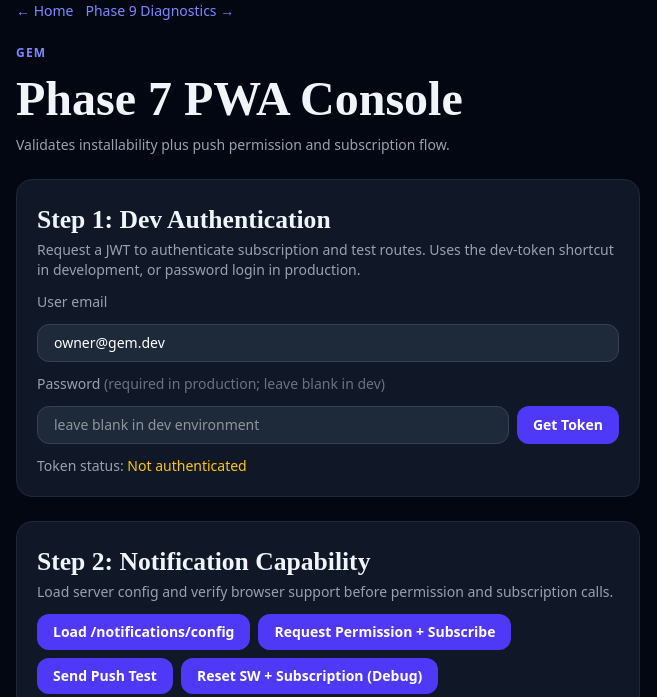
Test: Phase7DebugPage › shows notification config failure states
Step 1. Click the button "Load /notifications/config" → [144, 632], box [37, 614, 250, 650]
(page scrolled)
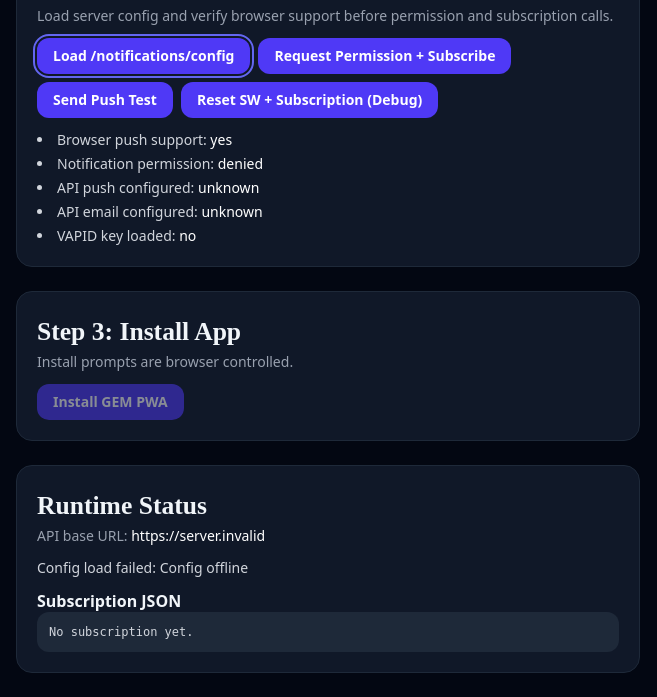
Check: the text "Config load failed: Config offline" is shown, box [37, 558, 248, 577]
